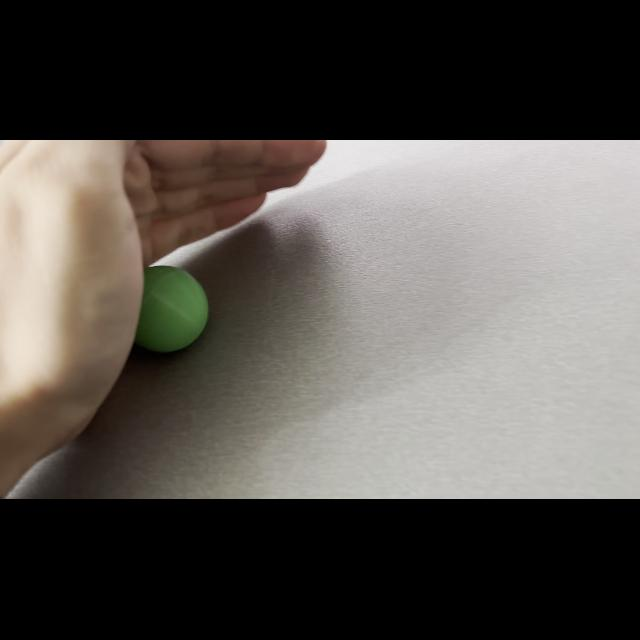objects: (133, 261, 214, 359)
